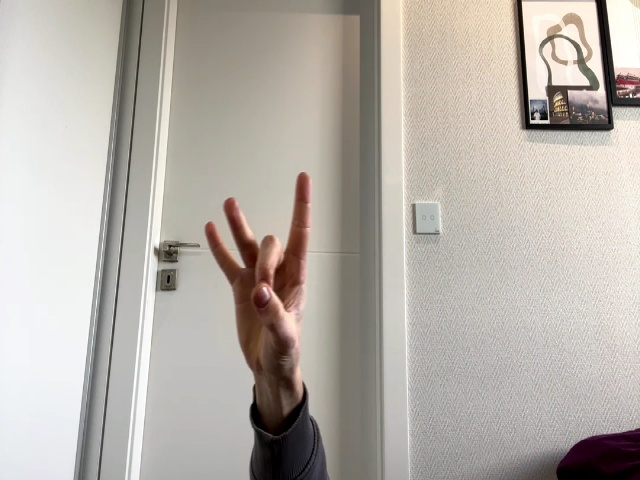G: (204, 173, 313, 361)
